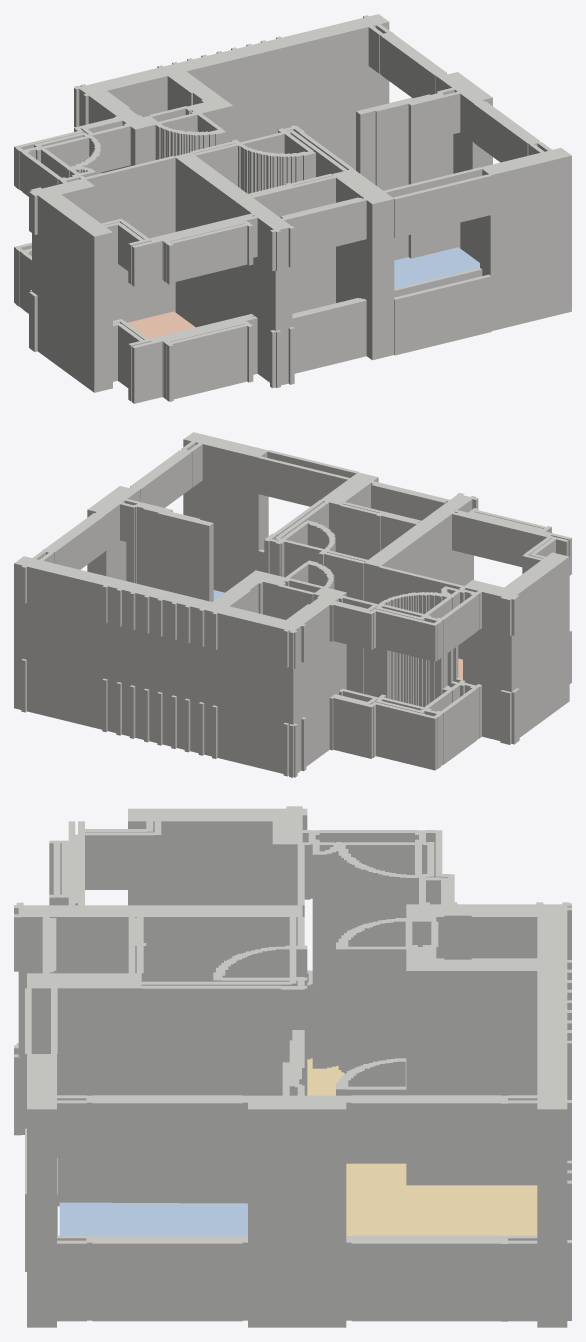
The picture shows the model from 3 angles, top to bottom: view 1: azimuth 30°, elevation 25°; view 2: azimuth 150°, elevation 25°; view 3: azimuth 270°, elevation 25°; orthographic projection. The views are drawn at different scales.
Parts seen in each view (by area): view 1: walls, room:bedroom:4, room:kitchen:2; view 2: walls; view 3: walls, room:living:1, room:bedroom:4.
Part boxes in pixels (x1,y1,x2,y2): walls: [14, 14, 571, 403]; room:bedroom:4: [394, 247, 479, 288]; room:kitchen:2: [127, 311, 195, 338]; walls: [14, 432, 571, 777]; walls: [14, 806, 571, 1327]; room:living:1: [307, 1058, 537, 1235]; room:bedroom:4: [59, 1202, 247, 1235].
Bounding box in the file's own units: 8.34 × 2.8 × 6.49.
